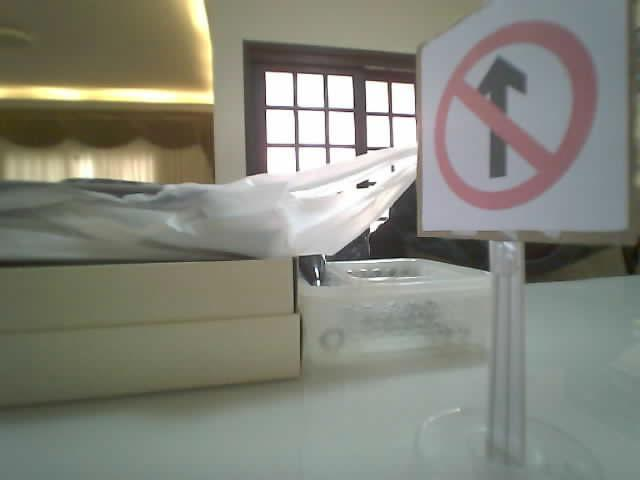R-3_sentido-proibido: (433, 20, 598, 208)
